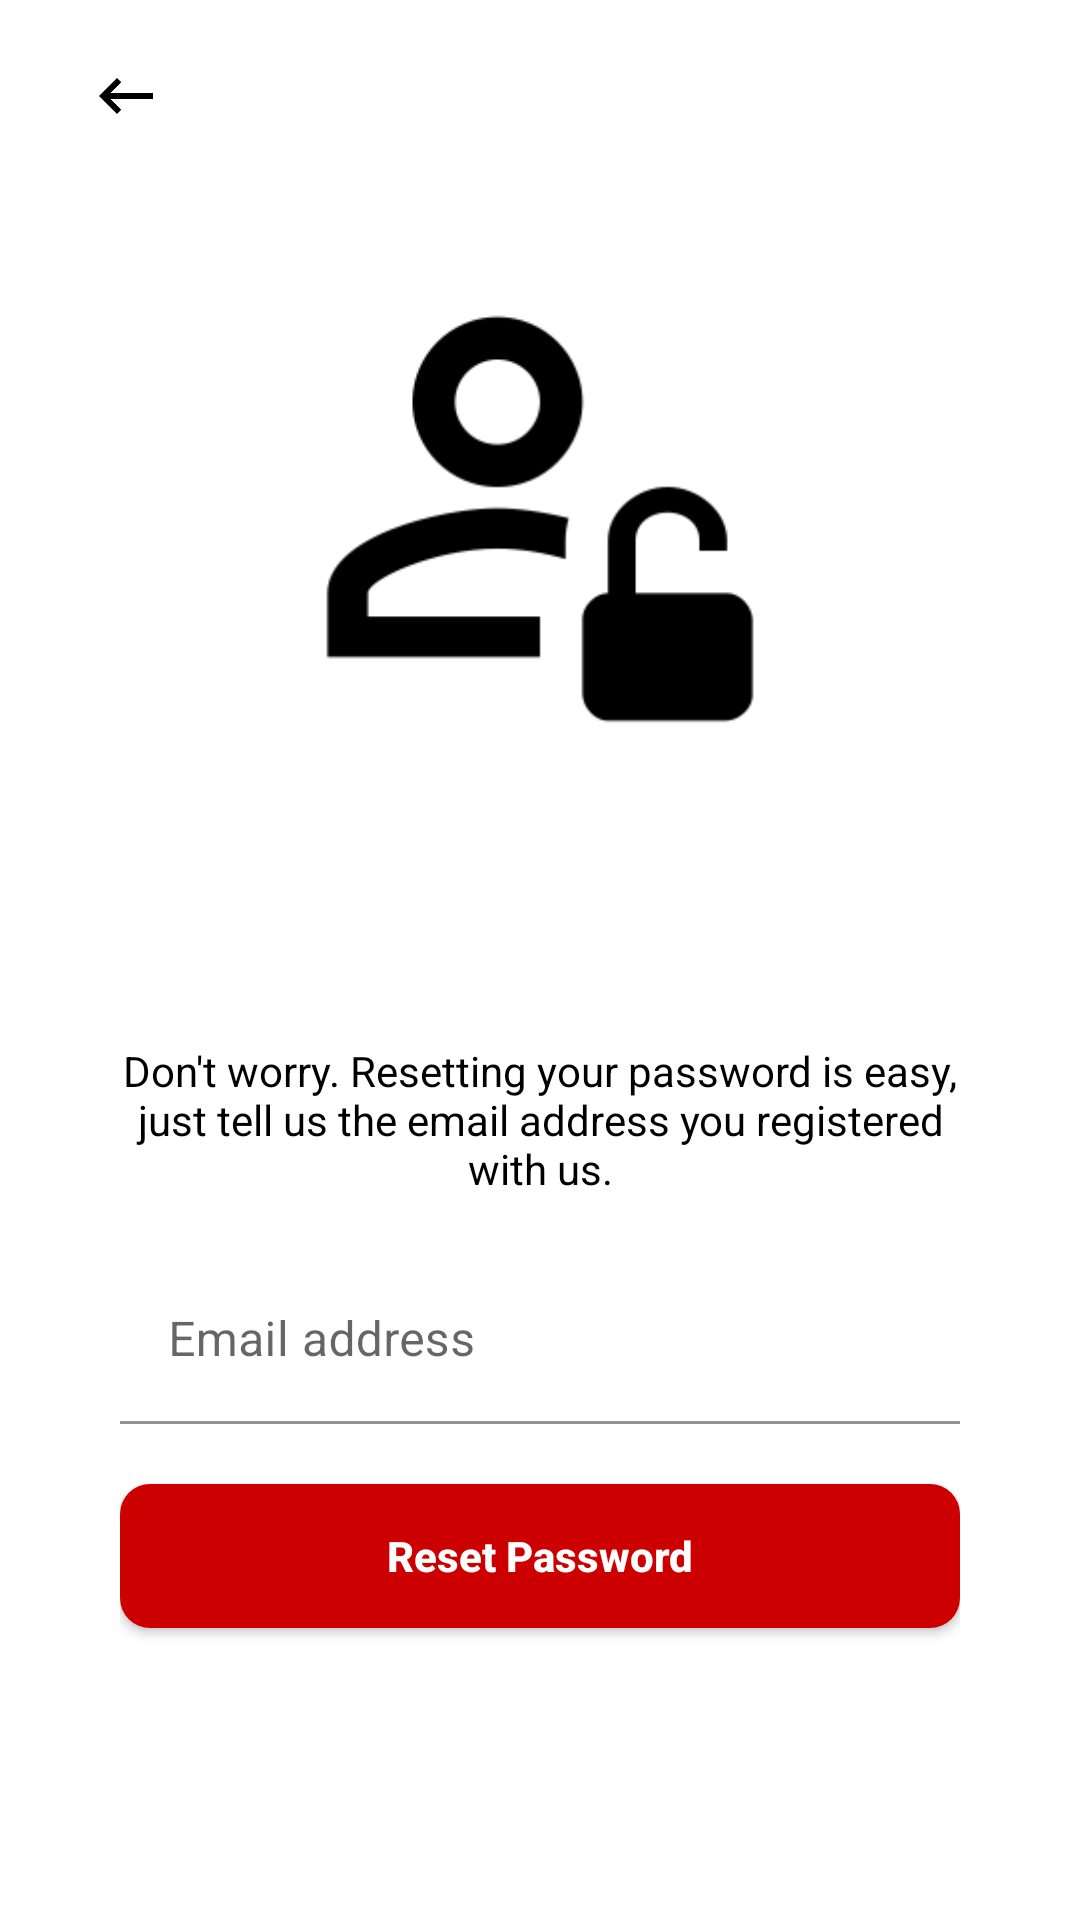

Icon bounding boxes for this 1080 x 1920 phone screenshot, format (x1, y1, x2, y2):
side arrow: (99, 78, 153, 114)
